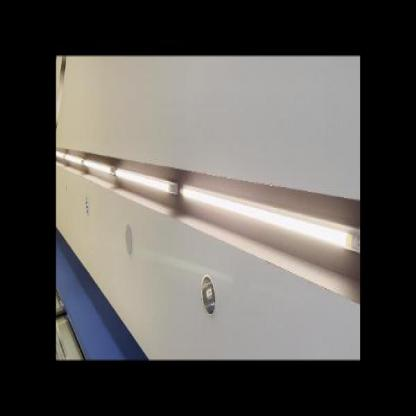light_on: (177, 165, 360, 273), (113, 166, 176, 199), (82, 158, 114, 180), (65, 150, 84, 167), (56, 145, 64, 164)
